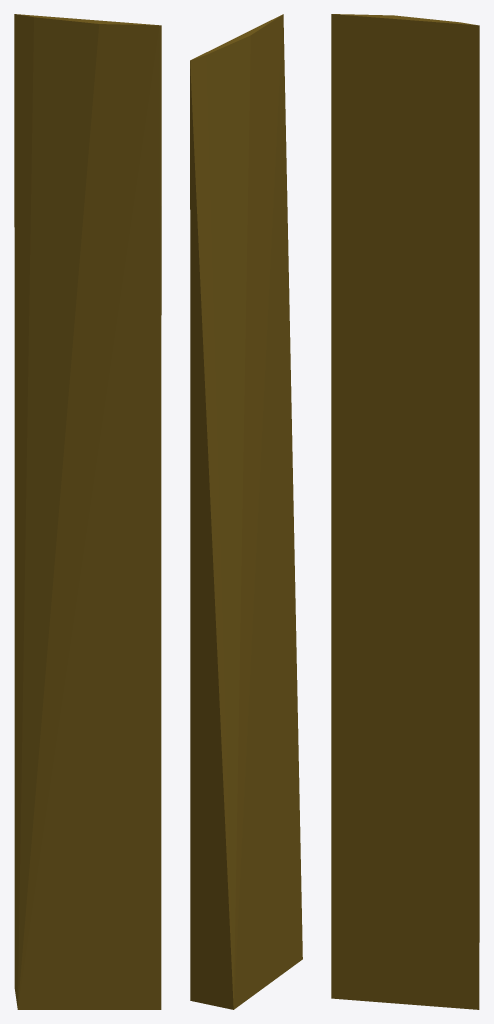
Rendered from simple_example_hole_part_17.obj.
The picture shows the model from 3 angles, left to right: view 1: azimuth 90°, elevation 25°; view 2: azimuth 150°, elevation 25°; view 3: azimuth 270°, elevation 25°; orthographic projection. The views are drawn at different scales.
Size of the model in its own units: 2.02 by 43.27 by 5.92.
